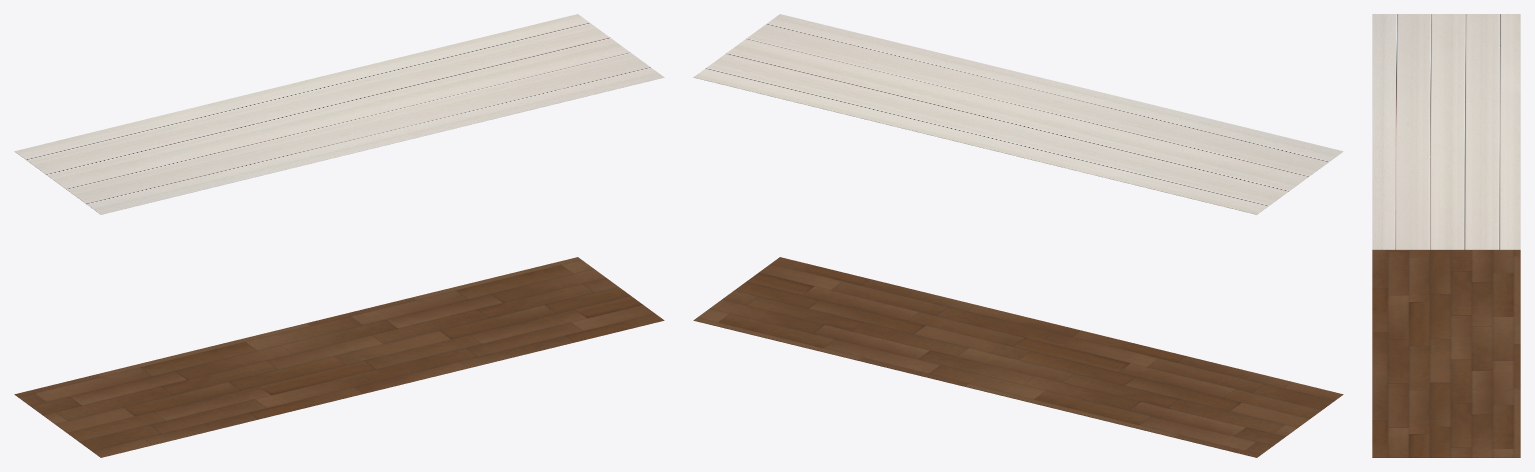
Rendered from floor_ceiling_module.fbx.
3 renders of one model, left to right at view 1: azimuth 30°, elevation 25°; view 2: azimuth 150°, elevation 25°; view 3: azimuth 270°, elevation 25°, orthographic. The views are drawn at different scales.
Visible parts, largest first — view 1: floor_ceiling_module1.001; view 2: floor_ceiling_module1.001; view 3: floor_ceiling_module1.001.
Boxes of the visible parts, <box> form: floor_ceiling_module1.001: <box>14,14,664,457</box>; floor_ceiling_module1.001: <box>693,14,1343,457</box>; floor_ceiling_module1.001: <box>1372,14,1520,457</box>.
Bounding box in the file's own units: 1372 × 566 × 365.
